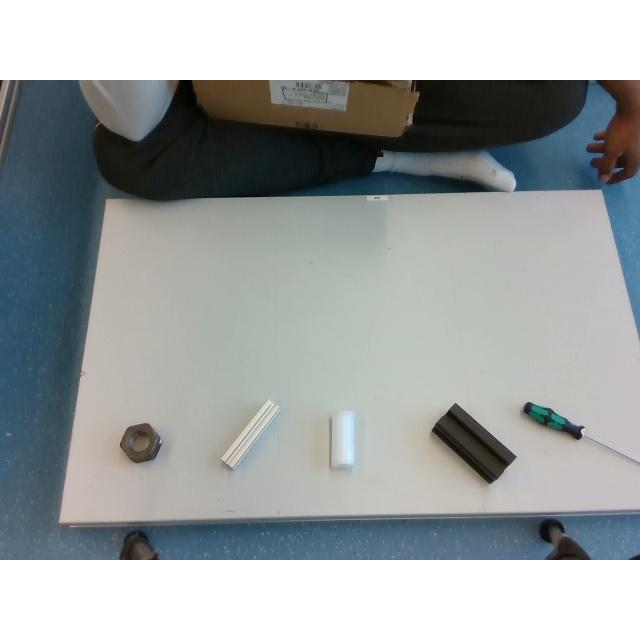F20_20_G: (220, 399, 280, 468)
M30: (120, 422, 162, 462)
S40_40_B: (432, 403, 516, 483)
Screwdriver: (522, 401, 638, 463)
Spacer: (330, 410, 356, 468)
